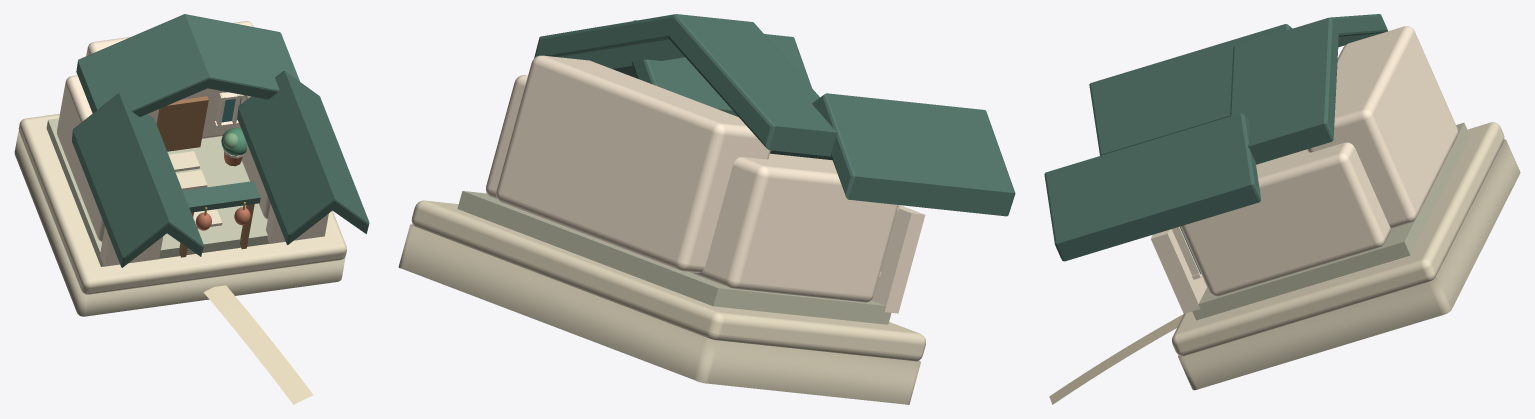
File: courtyard.glb
3 views of the same model, side by side, from view 1: azimuth 30°, elevation 25°; view 2: azimuth 150°, elevation 25°; view 3: azimuth 270°, elevation 25° (orthographic). The views are drawn at different scales.
Visible parts, largest first — view 1: courtyard (×9); view 2: courtyard (×5); view 3: courtyard (×6).
Boxes of the visible parts, left/top/right/bottom form: courtyard (×9): left=14, top=14, right=369, bottom=404; courtyard (×5): left=398, top=14, right=1015, bottom=404; courtyard (×6): left=1044, top=14, right=1520, bottom=404.
Size of the model in its own units: 0.3411 by 0.3503 by 0.3963.
